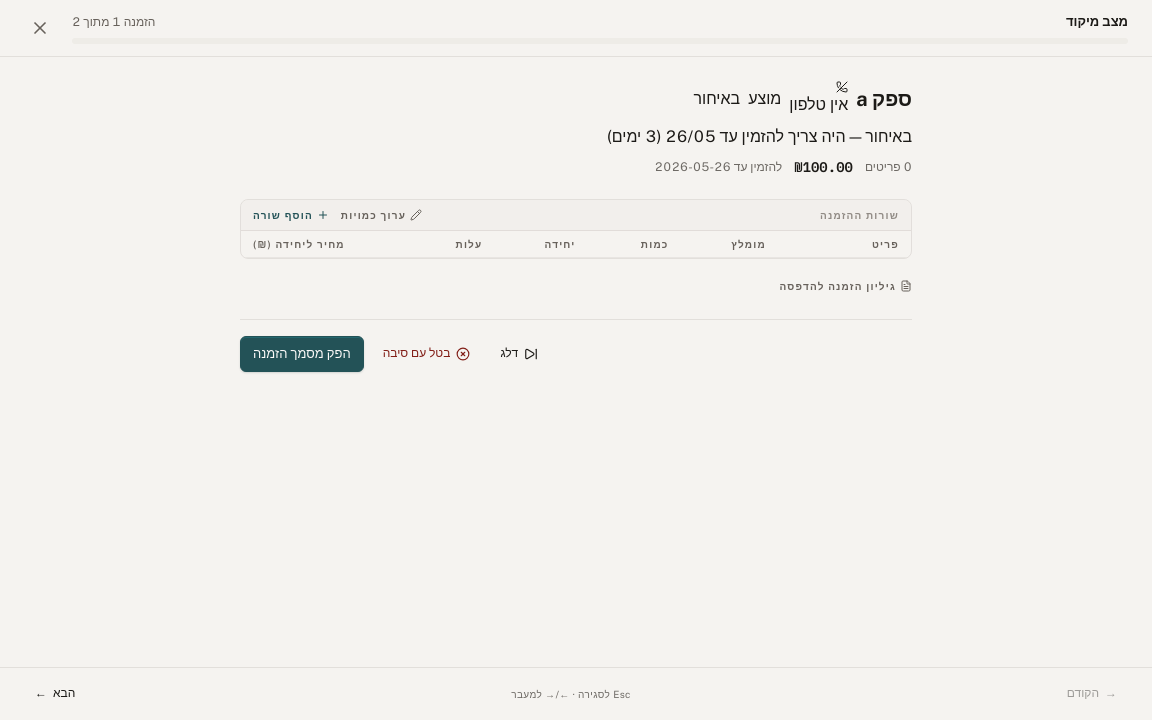
Test: FocusMode › M2 footer next advances to the second order
The image size is (1152, 720).
Click the button with test id "focus-next".
click(55, 694)  # box [24, 680, 86, 708]
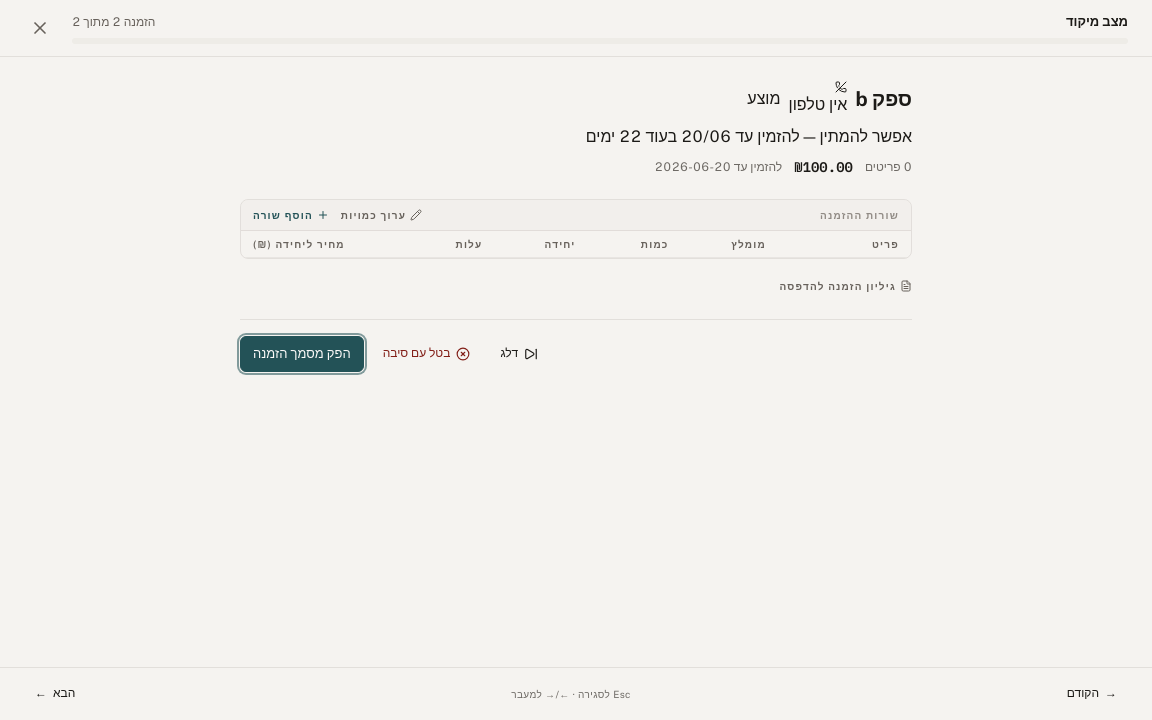
Now the element with test id "focus-card-b" is shown, box [240, 81, 912, 372]
Now the text with test id "focus-progress" reads "הזמנה 2 מתוך 2", box [72, 14, 155, 32]
